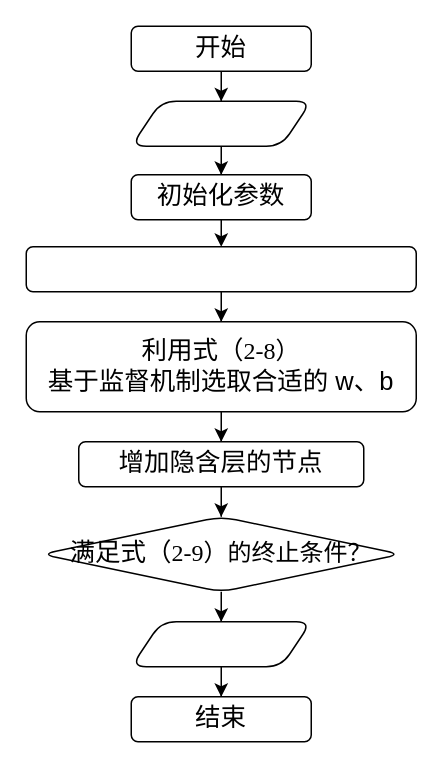
Image size: 443x768. Some labels were removed from this diagram. Each missing label, with the centre of its shape:
"利用式（ 2-5 ） 计算残差" belongs at (220,268).
"输入数据" belongs at (220,123).
"输出结果" belongs at (220,643).
